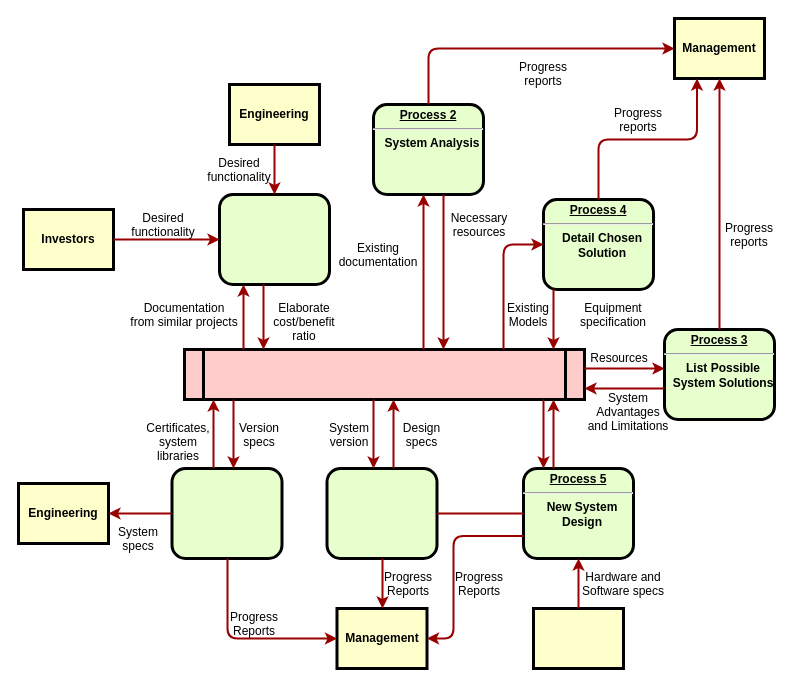
The diagram is 793 pixels wide and 687 high, and some of its shapes have lost their labels. Here are the shapes that lost their labels. From the top down, the centre of each, then its label:
the point at 274,239: Process 1 System Study Preparation
the point at 384,374: 检测数管理
the point at 226,513: Process 6 New System Construction
the point at 381,513: Process 7 New System Startup and Testing
the point at 578,638: Vendors
